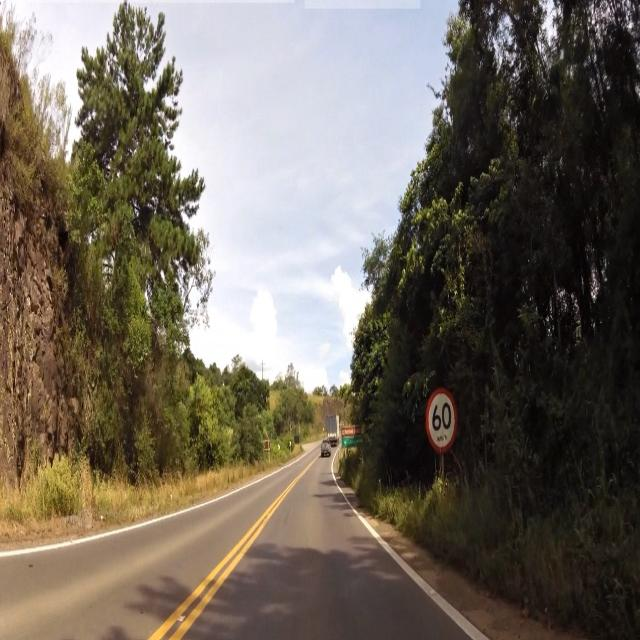R-19: (422, 382, 462, 454)
